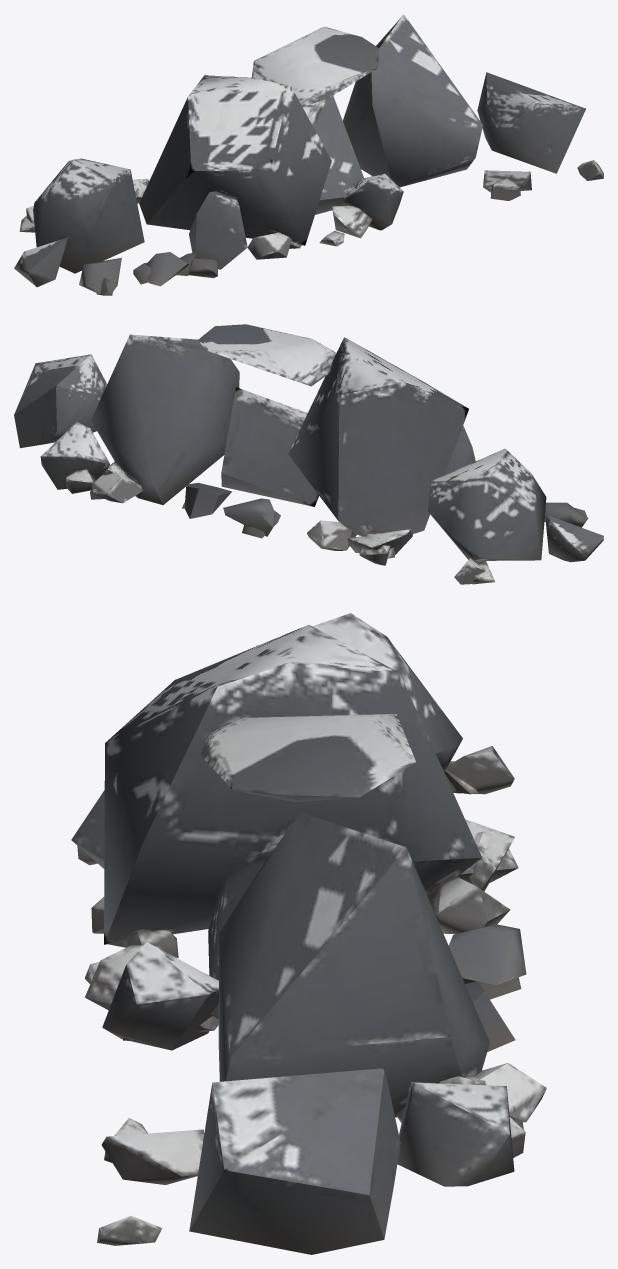
File: ridge-snow.glb
The picture shows the model from 3 angles, top to bottom: view 1: azimuth 30°, elevation 25°; view 2: azimuth 150°, elevation 25°; view 3: azimuth 270°, elevation 25°; orthographic projection. The views are drawn at different scales.
Visible parts, largest first — view 1: ridge-snow; view 2: ridge-snow; view 3: ridge-snow.
Part boxes in pixels (x1,y1,x2,y2): ridge-snow: (14, 14, 603, 295); ridge-snow: (14, 324, 603, 584); ridge-snow: (71, 613, 546, 1254).
Size of the model in its own units: 3.01 by 0.8234 by 1.12.
Materials: 1 (1 with a texture image).
